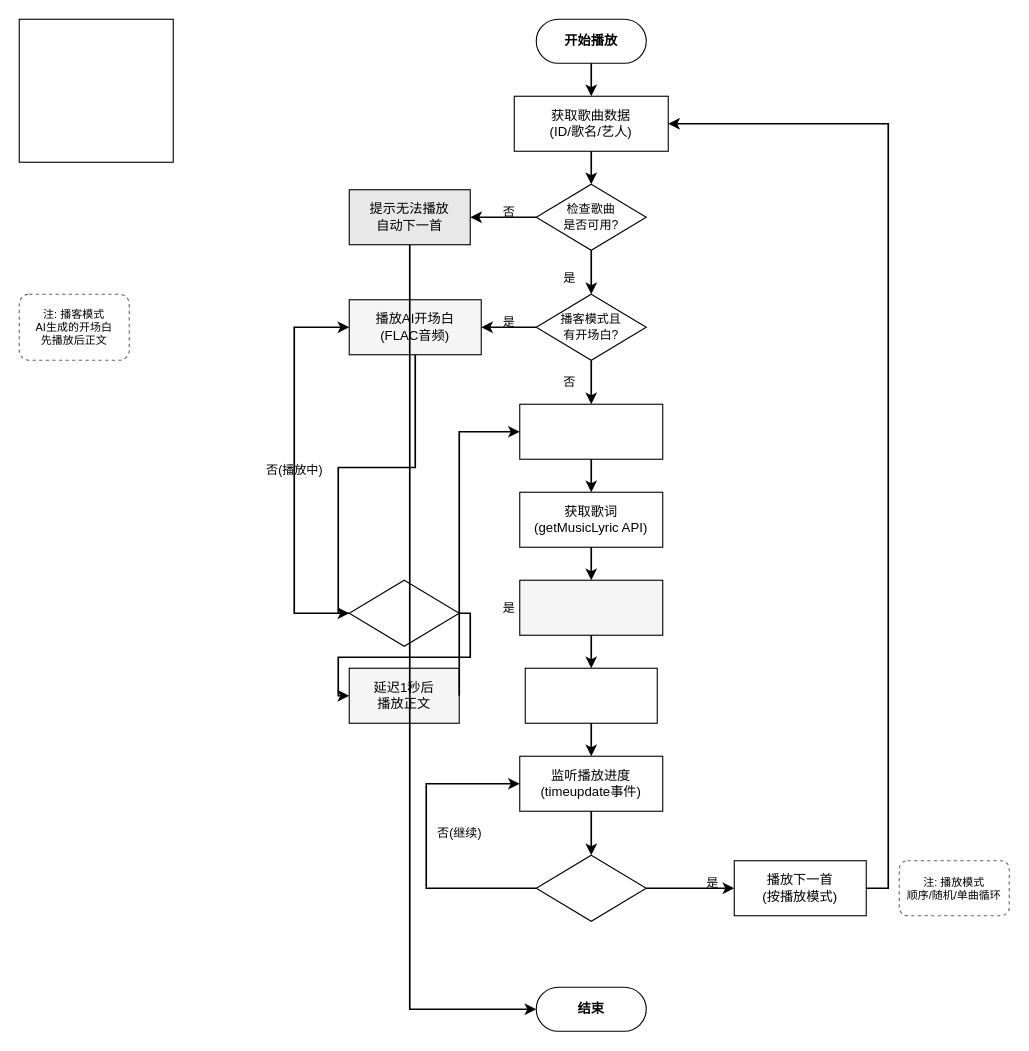
Some shapes in this 1029 by 1051 pixel diagram are drawn without their labels. The centre of each missing label's shape, as x and y in pixels:
"Audio元素播放 (audio.play())" goes at (x=591, y=607).
"图例说明 ⬭ 开始/结束 ▭ 处理步骤 ◊ 判断节点 ▭ 音频/API调用(灰底) ▭ 错误处理(深灰底)" goes at (x=95, y=90).
"开场白 结束?" goes at (x=403, y=612).
"播放结束? (ended事件)" goes at (x=590, y=887).
"更新播放状态 (Pinia store)" goes at (x=590, y=695).
"获取音乐URL (getMusicUrl API)" goes at (x=591, y=431).
